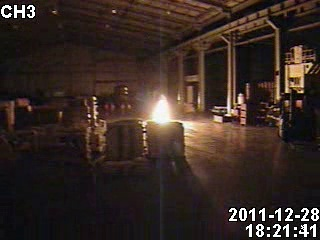fire: (149, 91, 173, 127)
